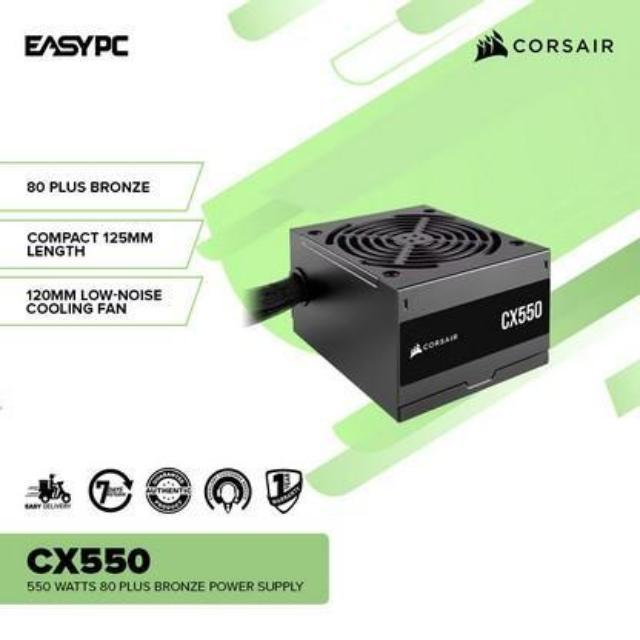PSU: (260, 193, 562, 424)
